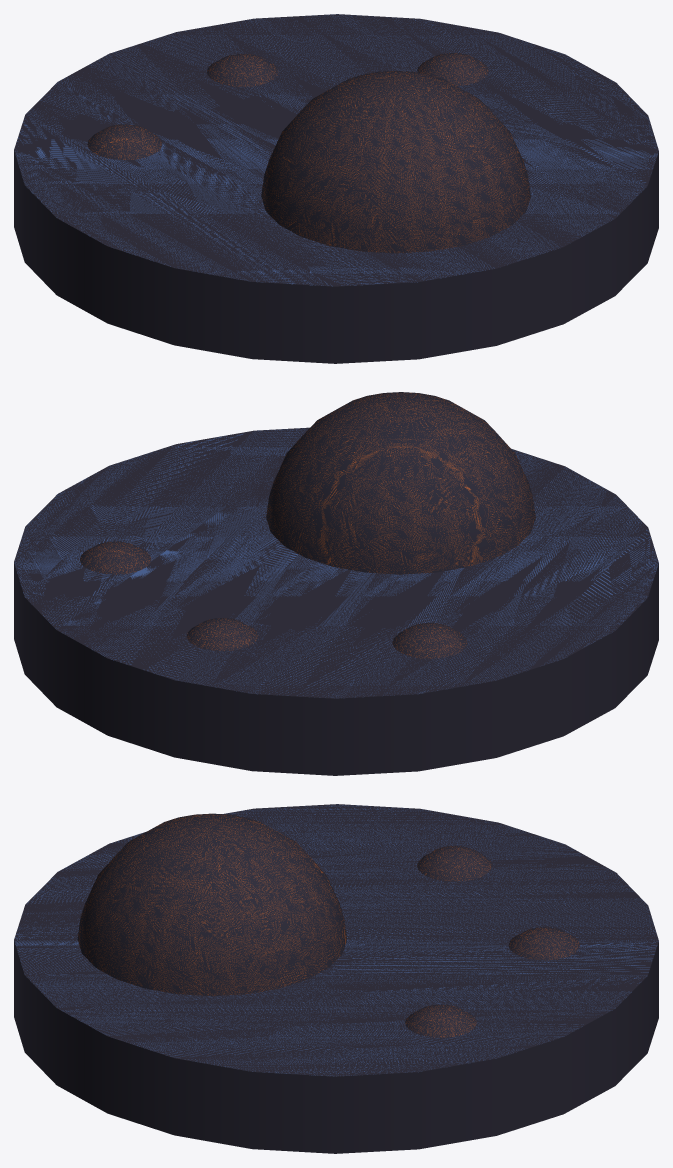
Rendered from UFO 3.fbx.
3 views of the same model, one above another, from view 1: azimuth 30°, elevation 25°; view 2: azimuth 150°, elevation 25°; view 3: azimuth 270°, elevation 25° (orthographic).
Visible parts, largest first — view 1: Model; view 2: Model; view 3: Model.
Boxes of the visible parts, x1,y1,x2,y2 form: Model: [14, 14, 658, 363]; Model: [14, 392, 658, 775]; Model: [14, 804, 658, 1153].
Size of the model in its own units: 3.86 by 1.26 by 3.86.
